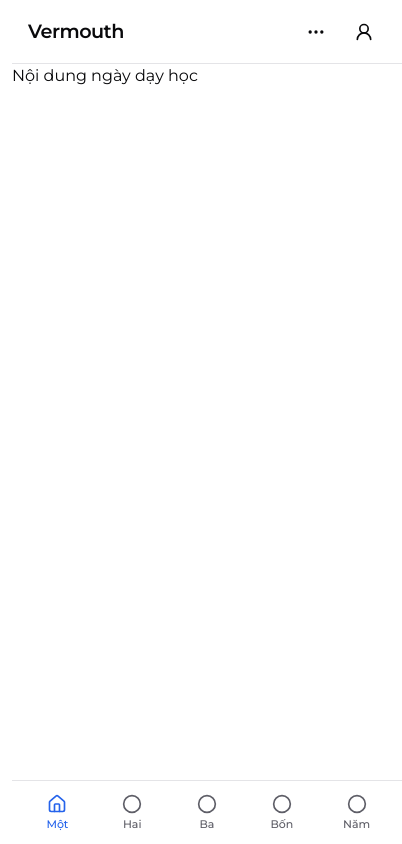
Test: AppShell › AC-6 keeps overflow and secondary destinations reachable from the phone menu
The image size is (402, 844).
Click the button named "Thêm mục" at [316, 32], box top-left (294, 10), bottom-right (338, 54)
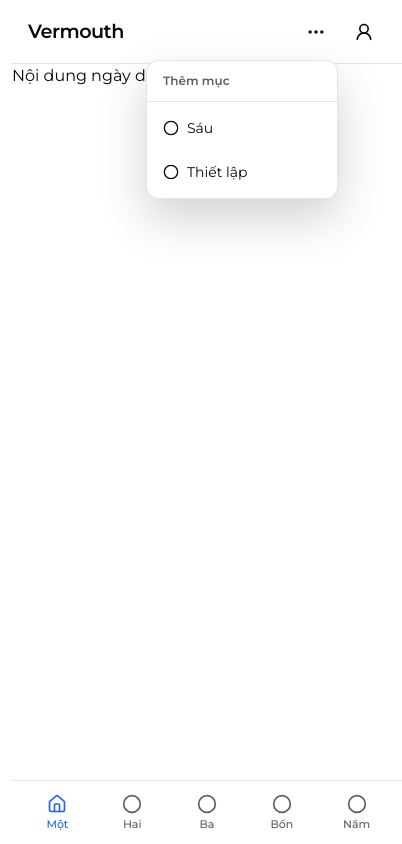
Expected: the menu item "Sáu" is shown, top-left (163, 118), bottom-right (213, 136)
Expected: the menu item "Thiết lập" is shown, top-left (163, 162), bottom-right (248, 180)
